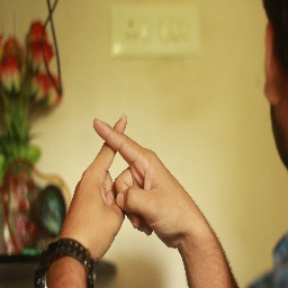X: (64, 101, 176, 206)
